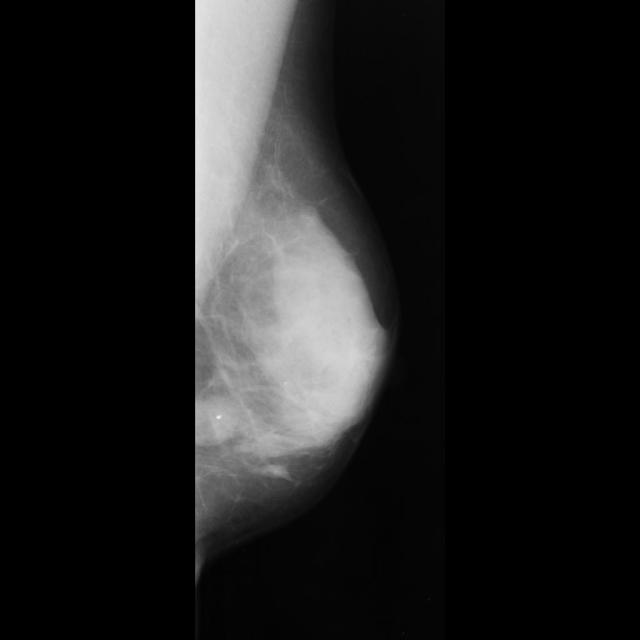tumour: (195, 396, 238, 446)
